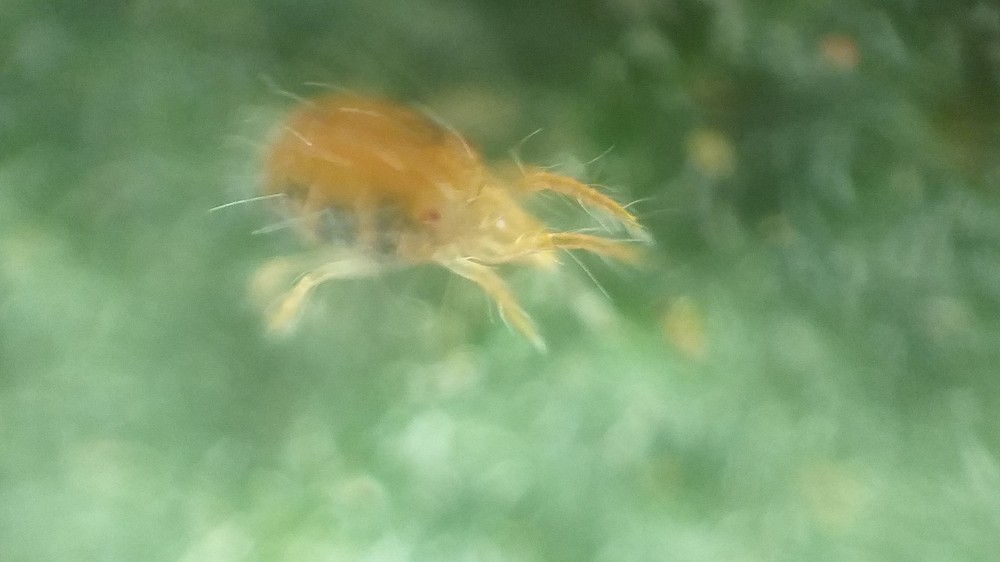Aracnido Rojo: (199, 62, 688, 375)
